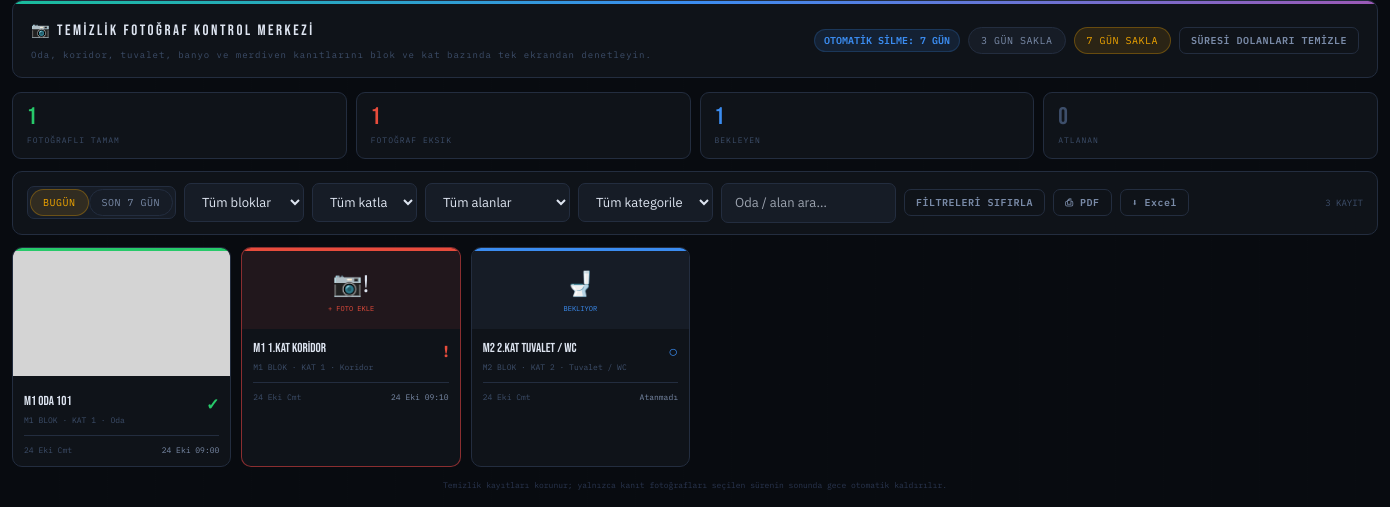
Test: housekeeping/PhotoControlCenter smoke › blok ve alan filtresi uygular
The image size is (1390, 507).
Check: the text "M1 Oda 101" is shown, box x1=24 y1=392 x2=72 y2=408
Select "M2 Blok" in the dropdown named "Blok filtresi": (244, 203) x1=184 y1=183 x2=304 y2=222
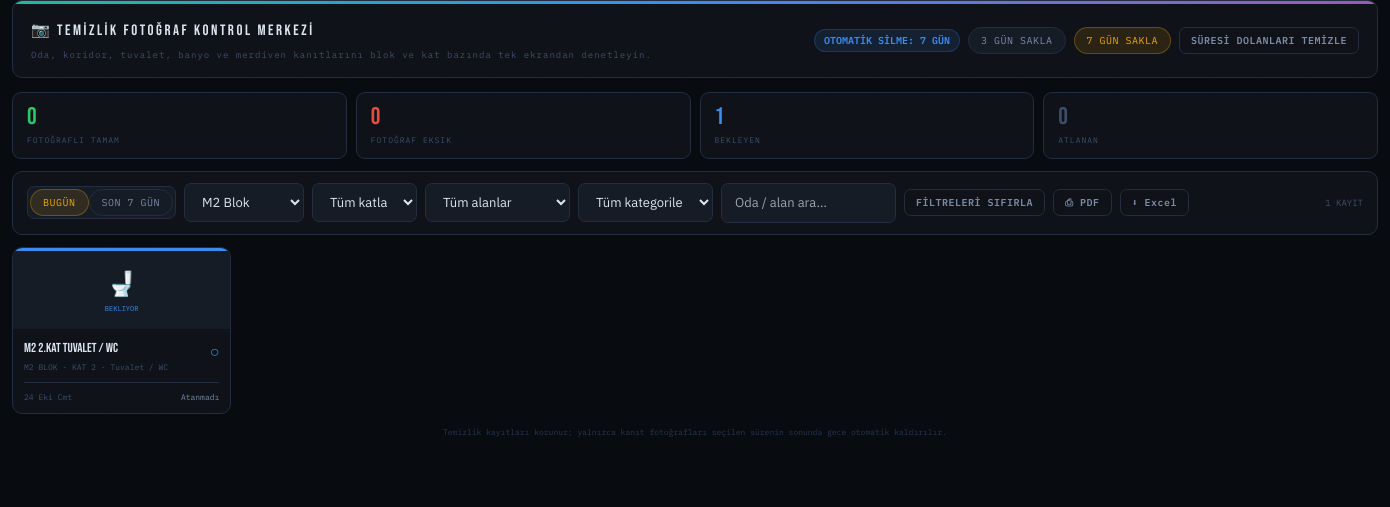
Check: the text "M2 2.Kat Tuvalet / WC" is shown, box x1=24 y1=340 x2=118 y2=356
Check: the text "M1 Oda 101" is gone
